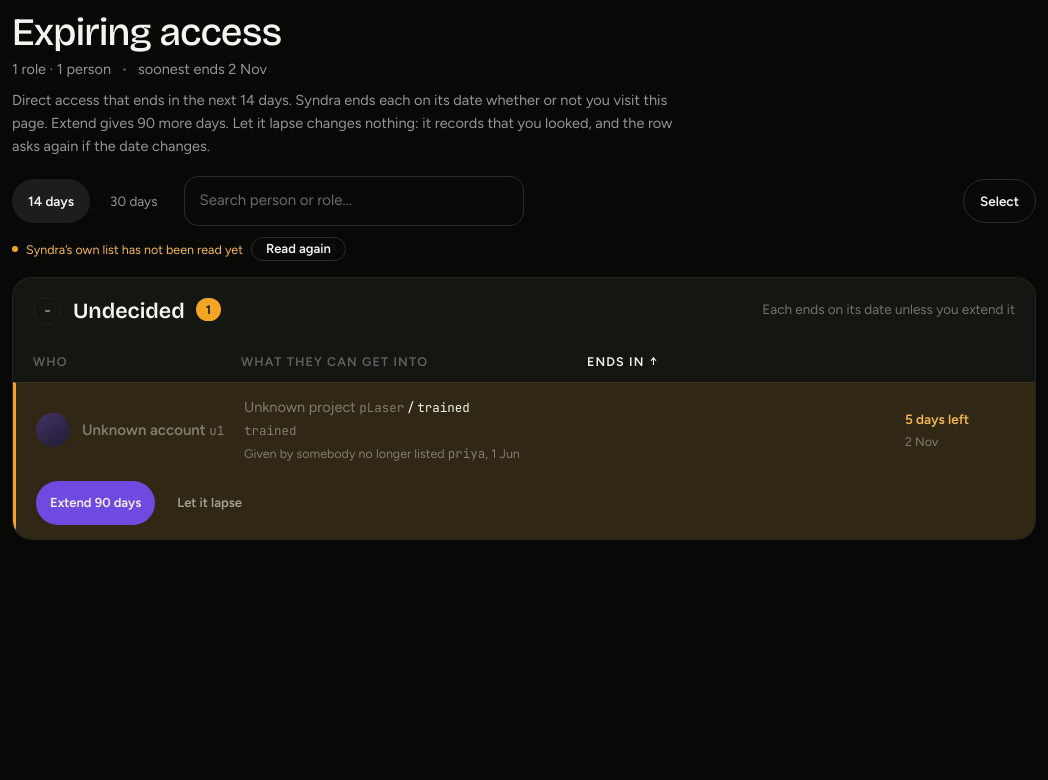
Expiring access, laid out as its board › a failed Extend keeps its buttons so it can be tried again
This screenshot has width=1048, height=780.
Click the button "Extend 90 days" at (96, 503), box left=36, top=481, right=155, bottom=525
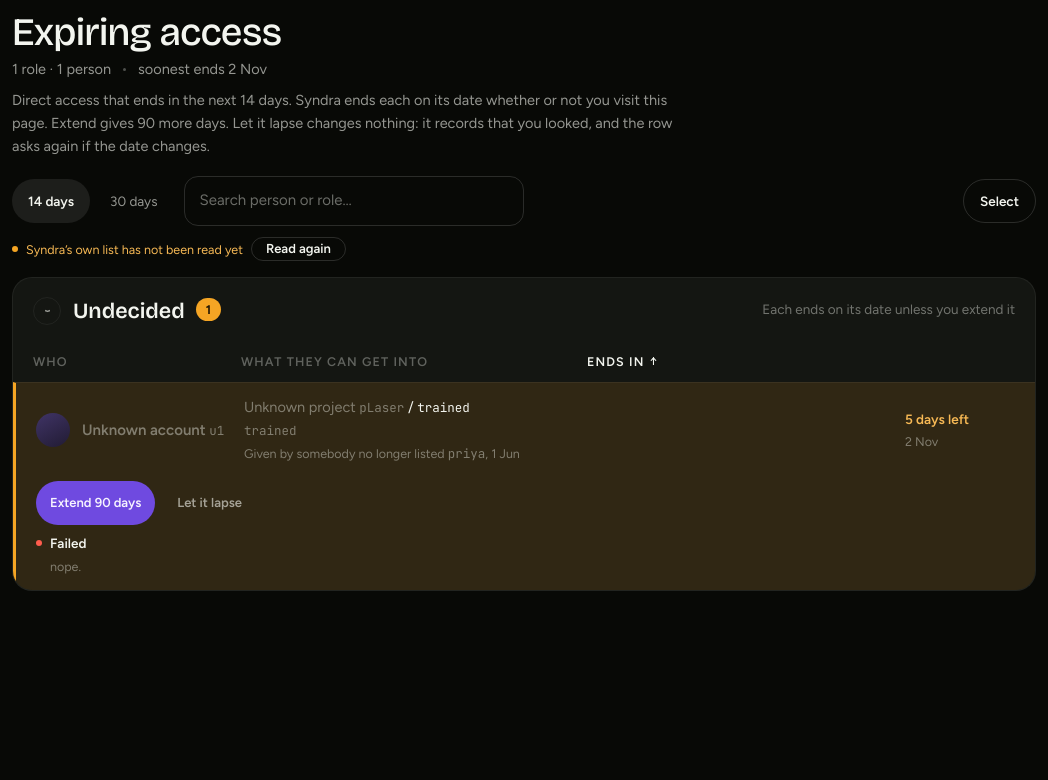
Expected: the message "Failed nope." is shown, left=36, top=533, right=86, bottom=576
